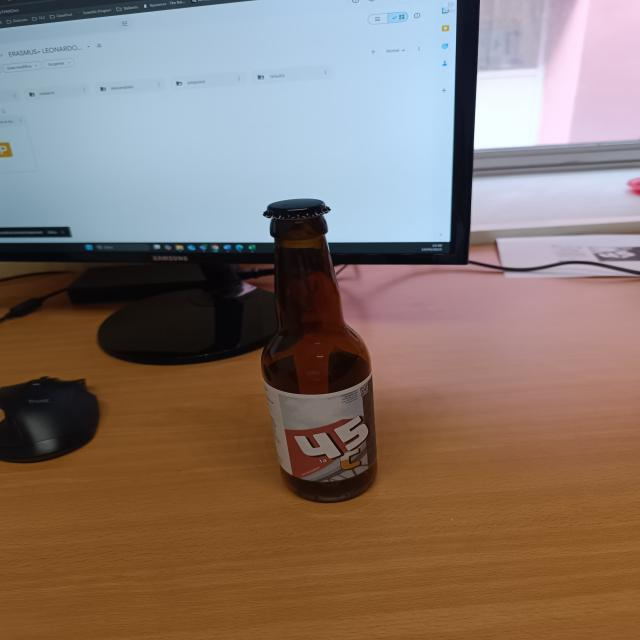Bottle: (253, 196, 380, 502)
Cap: (260, 197, 334, 220)
Label: (270, 389, 376, 479)
